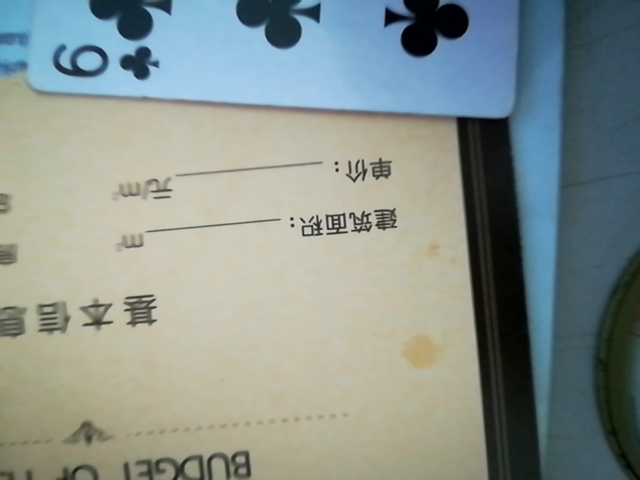mh 6: (15, 0, 540, 113)
